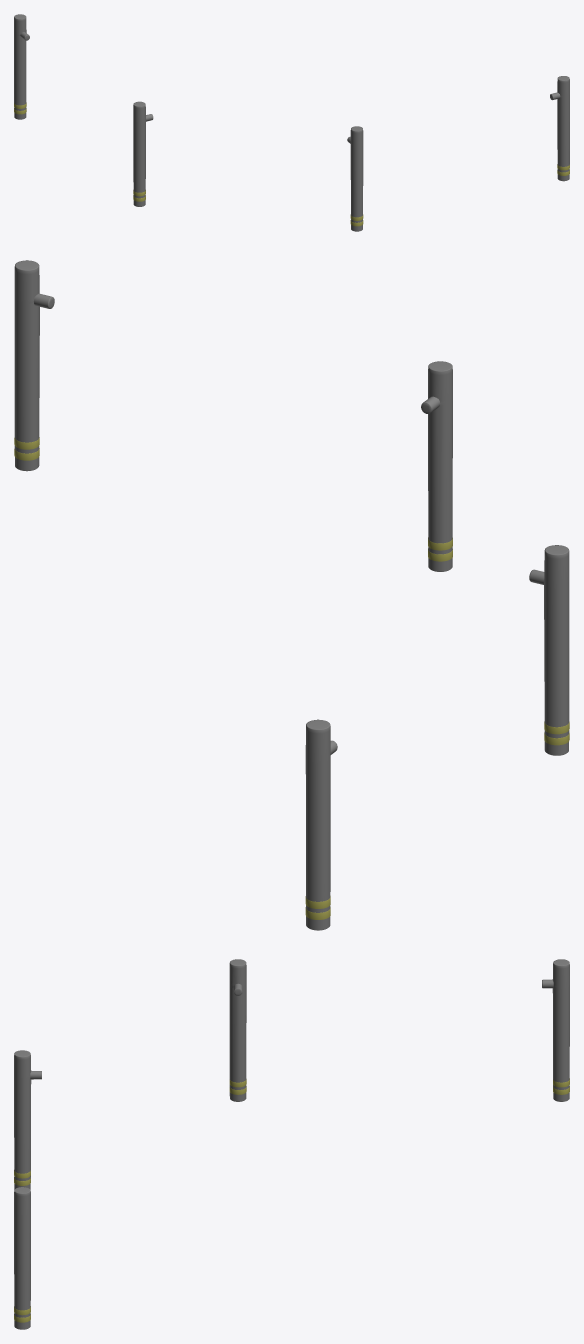
File: aruhula_dentyu_matome.fbx
The picture shows the model from 3 angles, top to bottom: view 1: azimuth 30°, elevation 25°; view 2: azimuth 150°, elevation 25°; view 3: azimuth 270°, elevation 25°; orthographic projection. The views are drawn at different scales.
Visible parts, largest first — view 1: dentyuu2, dentyuu, dentyuu1, dentyuu3; view 2: dentyuu, dentyuu2, dentyuu3, dentyuu1; view 3: dentyuu2, dentyuu3, dentyuu1, dentyuu.
Part boxes in pixels (box(x1,y1,x2,y2)): dentyuu2: box(133, 101, 153, 206); dentyuu: box(550, 76, 569, 181); dentyuu1: box(347, 126, 363, 231); dentyuu3: box(14, 14, 29, 119); dentyuu: box(14, 260, 54, 471); dentyuu2: box(529, 545, 569, 755); dentyuu3: box(305, 719, 337, 930); dentyuu1: box(421, 361, 452, 571); dentyuu2: box(229, 959, 246, 1101); dentyuu3: box(542, 959, 569, 1101); dentyuu1: box(14, 1050, 41, 1189); dentyuu: box(14, 1187, 30, 1329).
Size of the model in its own units: 51.58 by 13.96 by 51.58.
